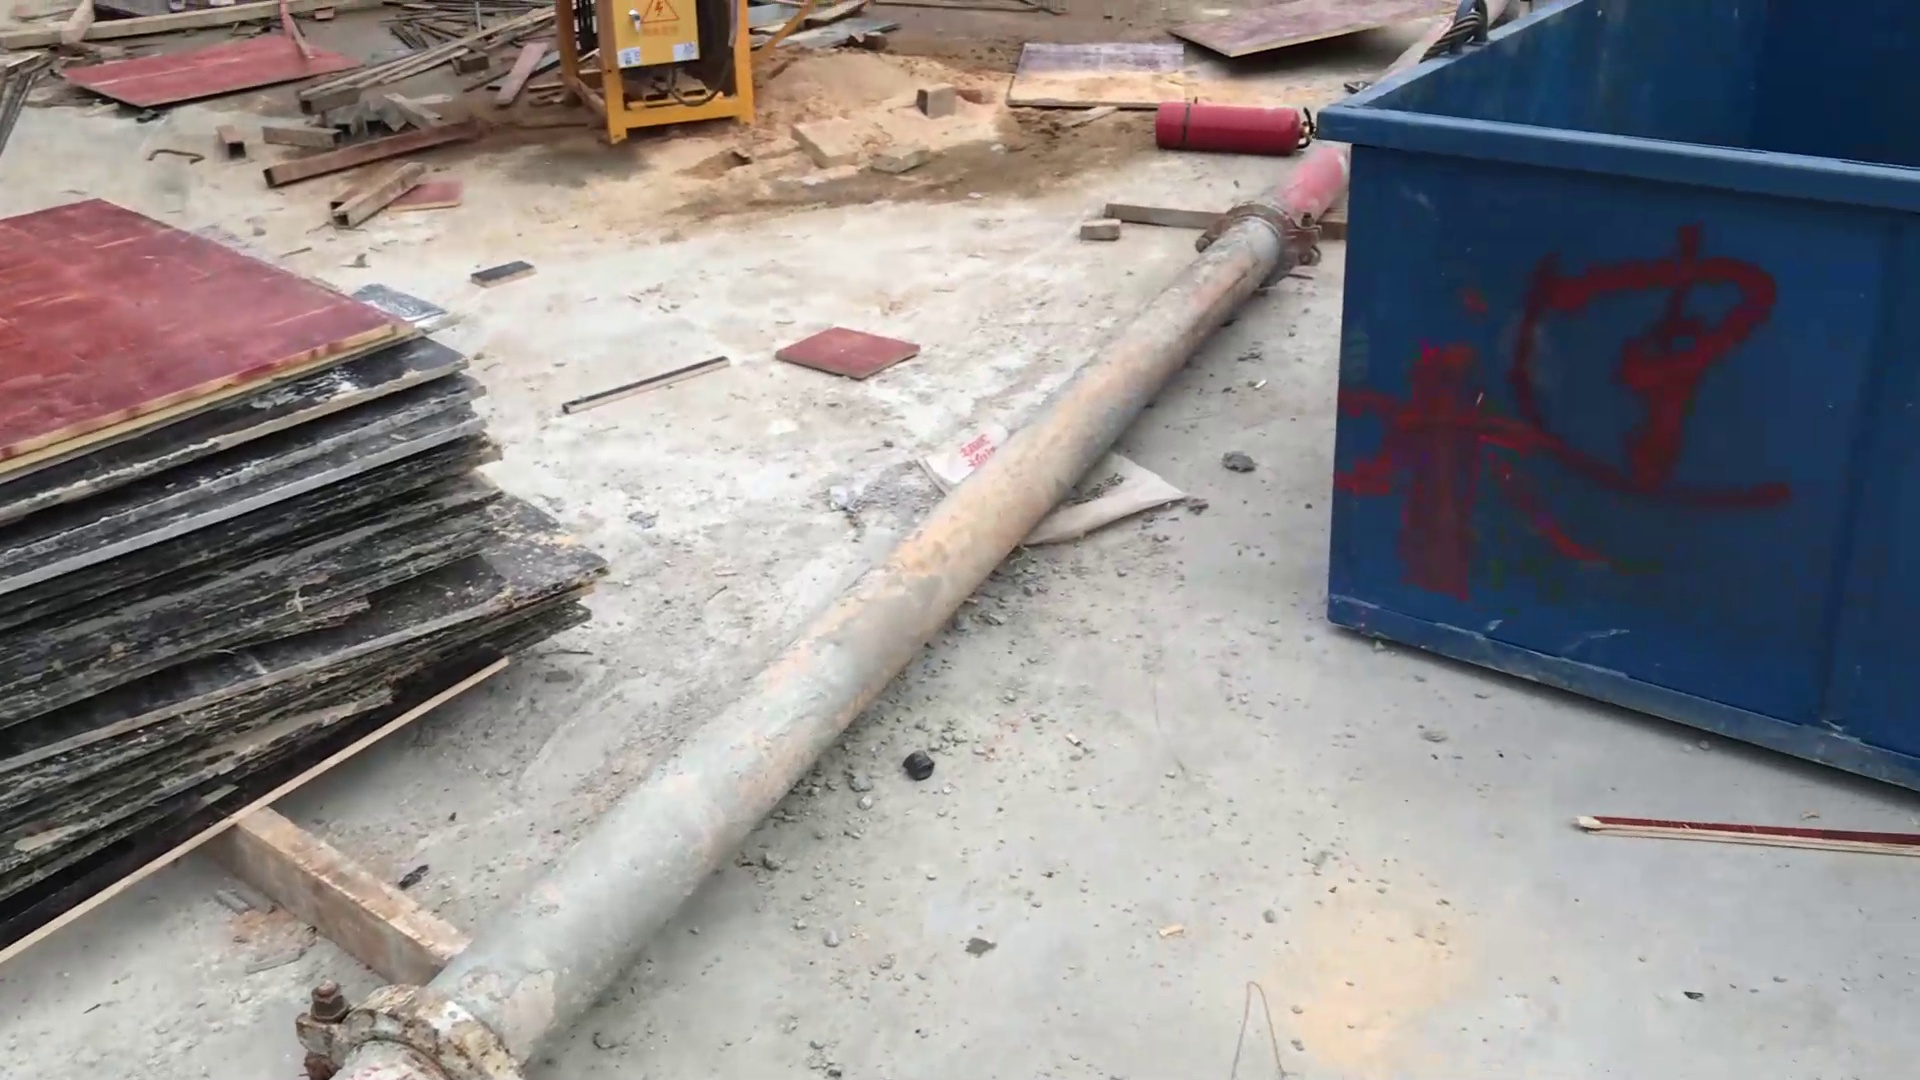board: (1, 207, 615, 1009)
ebox: (549, 1, 785, 157)
hopper: (1315, 11, 1920, 841)
